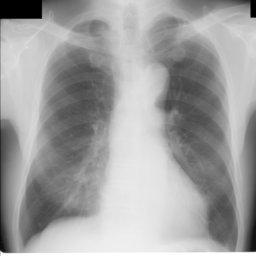left lobe: (150, 17, 238, 250)
right lobe: (20, 20, 114, 244)
